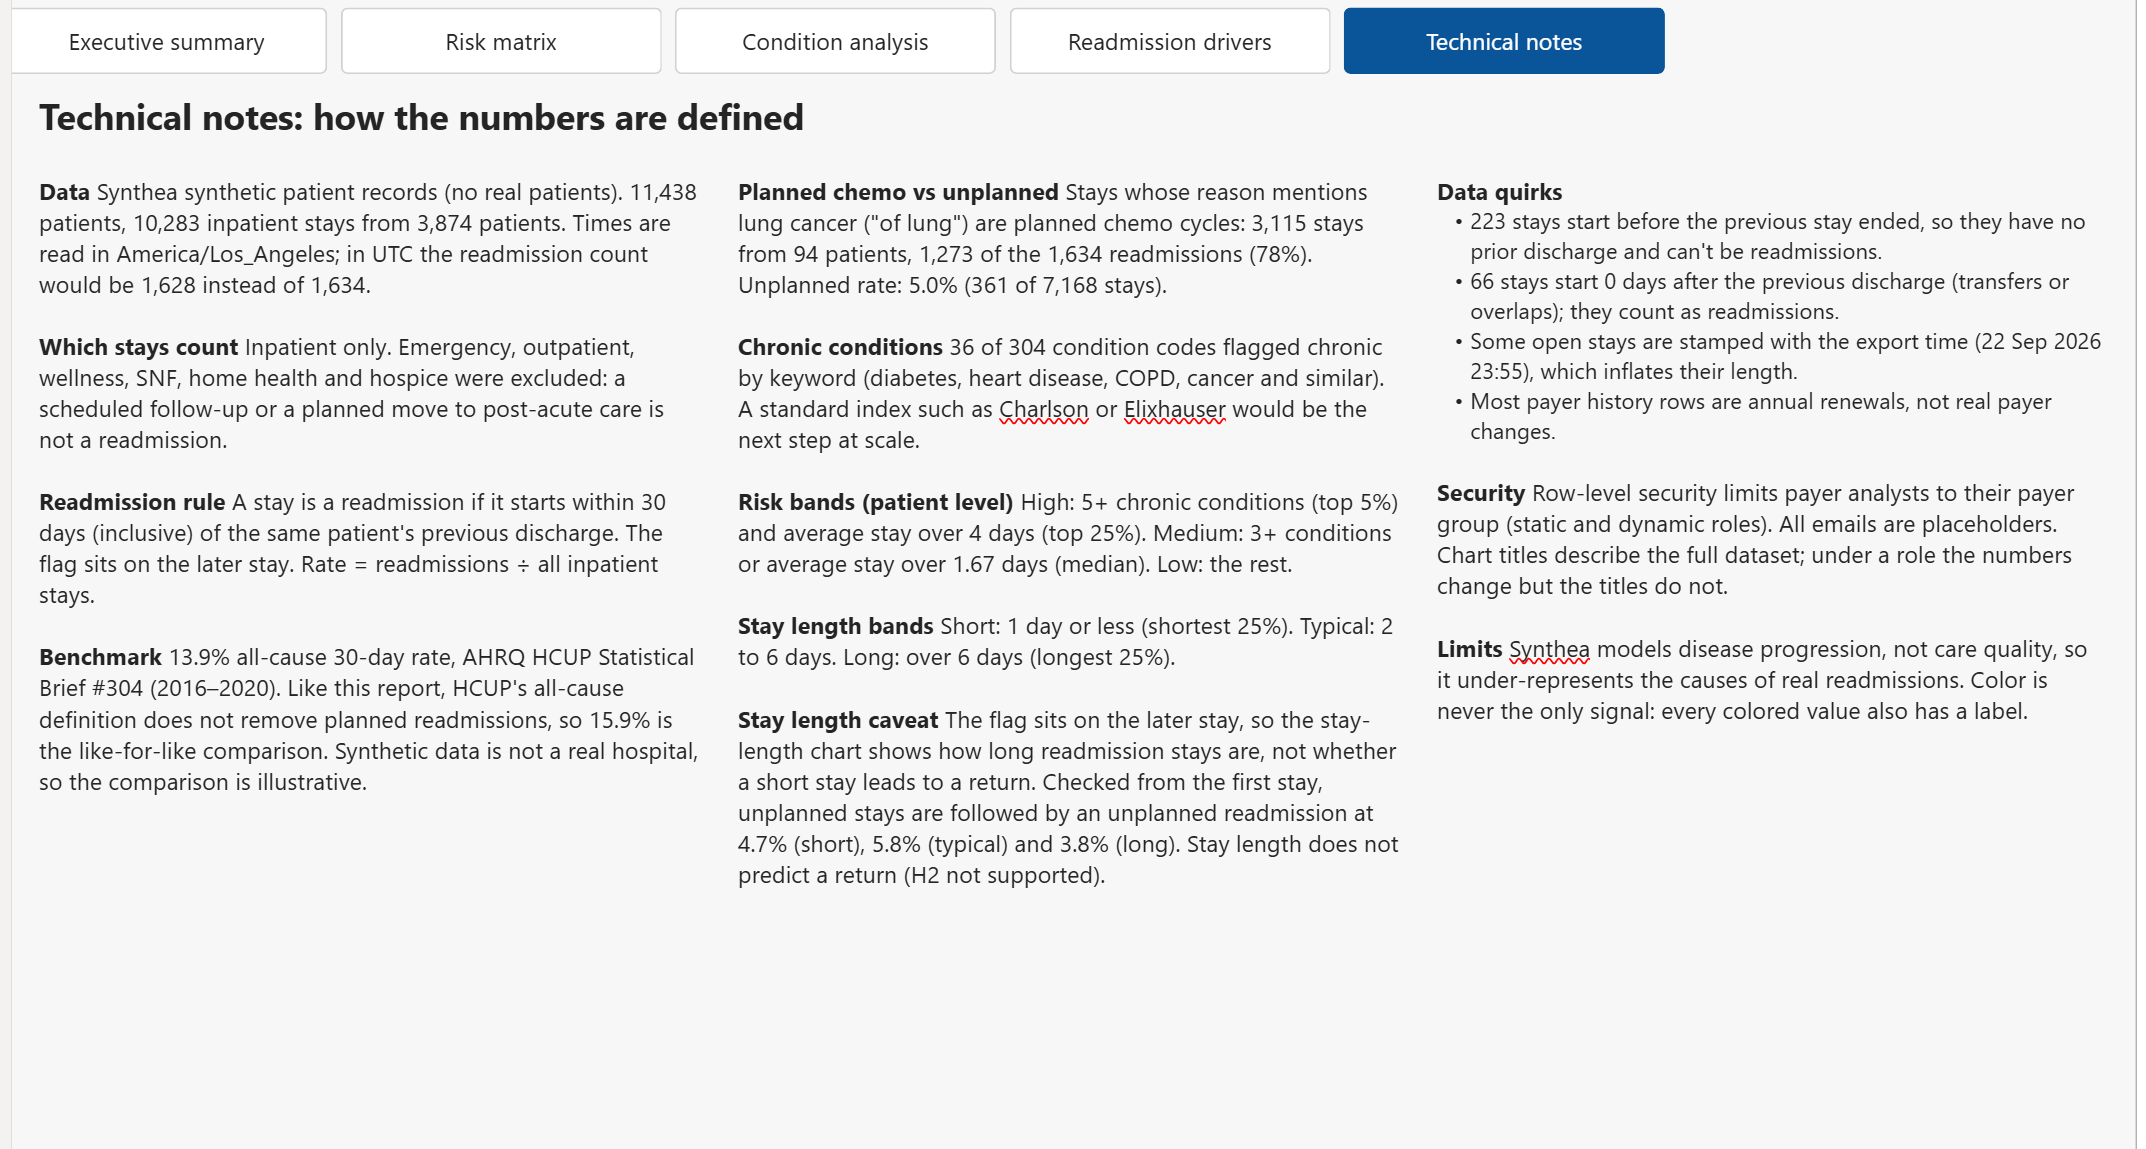

The page's visual inventory and layout, read from the dashboard file:
{"tool":"powerbi","page":{"name":"Technical notes","canvas":[1280,720],"ordinal":5},"visuals":[{"type":"pageNavigator","box":[0,10,1000,40],"z":0},{"type":"textbox","box":[20,60,1240,40],"z":1000},{"type":"textbox","box":[20,110,400,590],"z":2000},{"type":"textbox","box":[440,110,400,590],"z":3000},{"type":"textbox","box":[860,110,400,590],"z":4000}]}

Visuals, with their boxes on the page's 1280x720 design canvas (x1, y1, x2, y2). These are canvas units, not pixel positions in the 2146x1149 screenshot, which may show the page scaled, cropped or inside an application window:
pageNavigator: 0 10 1000 50
textbox: 20 60 1260 100
textbox: 20 110 420 700
textbox: 440 110 840 700
textbox: 860 110 1260 700
